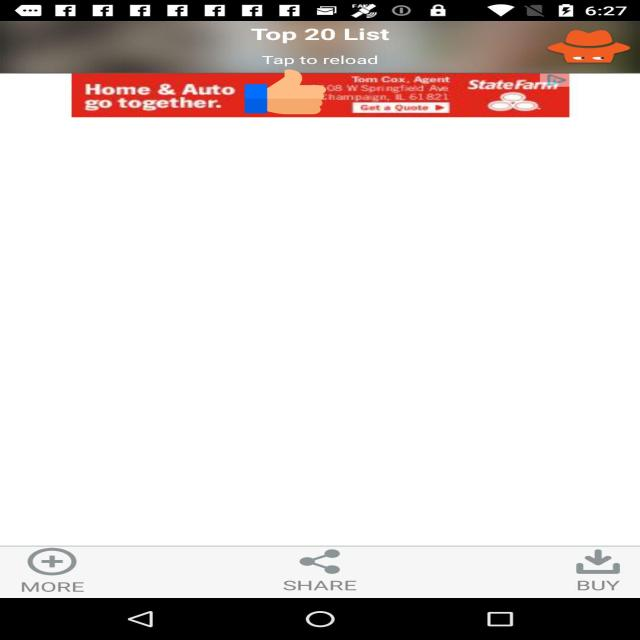privacy zuckering: (245, 68, 326, 115)
